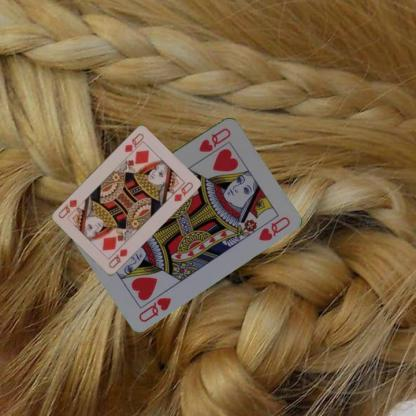Qd: (122, 130, 145, 159), (106, 246, 129, 270)
Qh: (136, 293, 173, 323), (196, 125, 232, 153)
